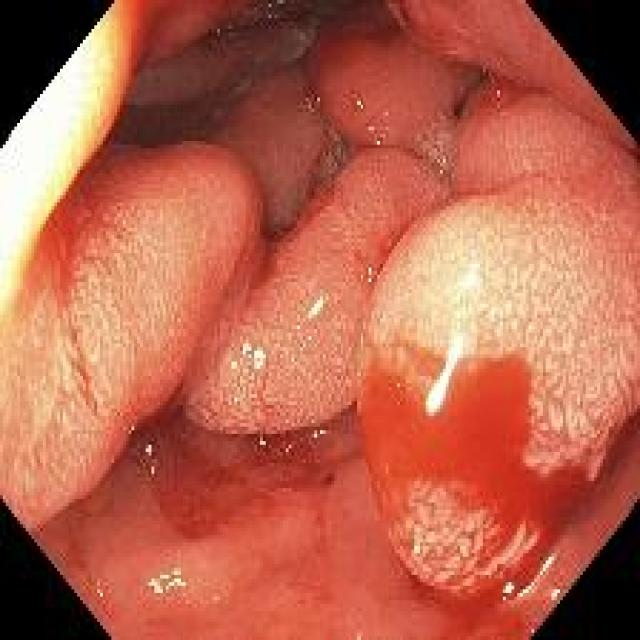Polyps: (358, 93, 640, 598), (0, 144, 261, 532), (182, 149, 452, 437)
